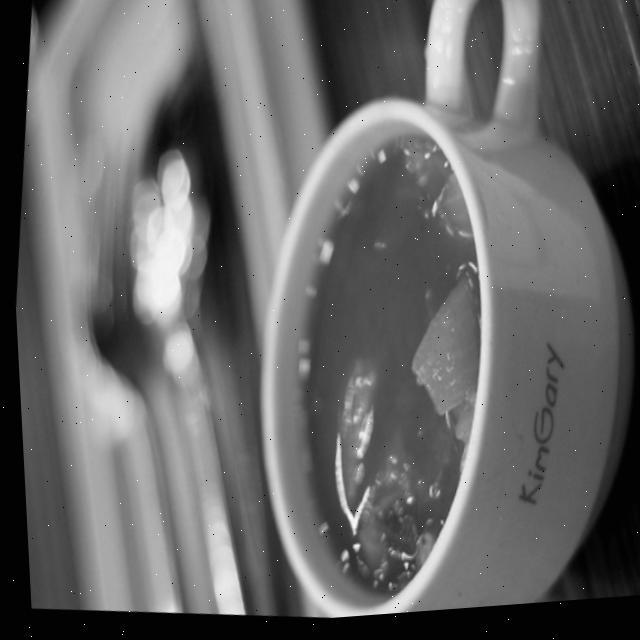汤锅炖物: (148, 0, 640, 631)
